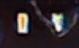COMP: (12, 9, 70, 38)
STAN: (30, 2, 51, 29), (47, 21, 69, 39), (66, 10, 78, 28), (35, 5, 44, 25)
